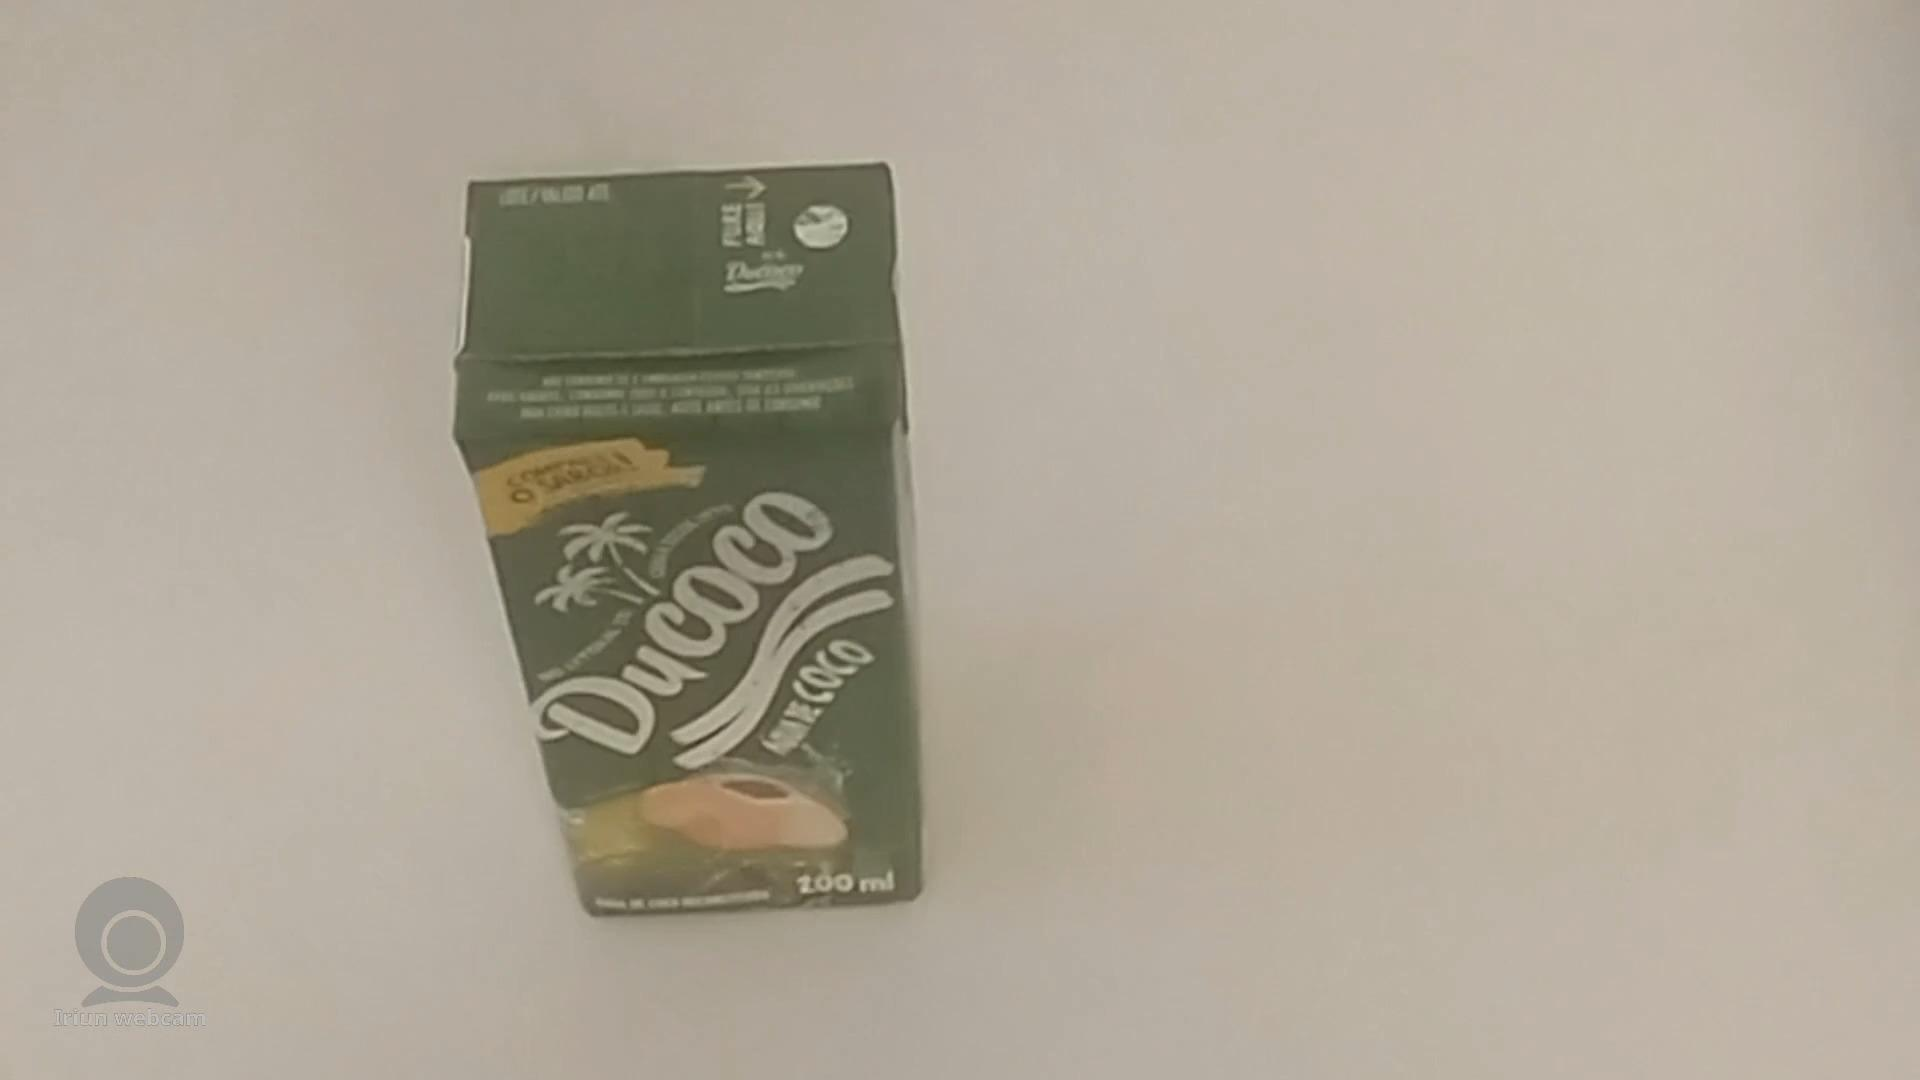coco: (458, 162, 934, 927)
